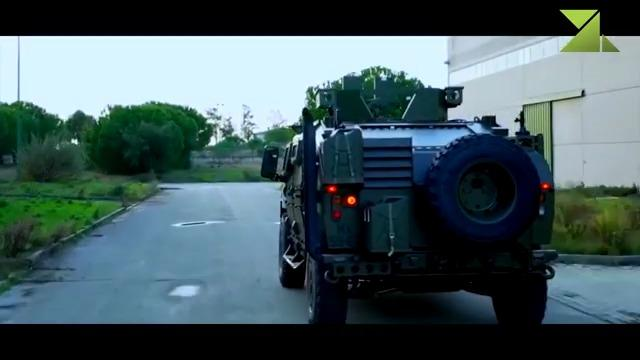MIL_HMMWV: (262, 124, 558, 325)
